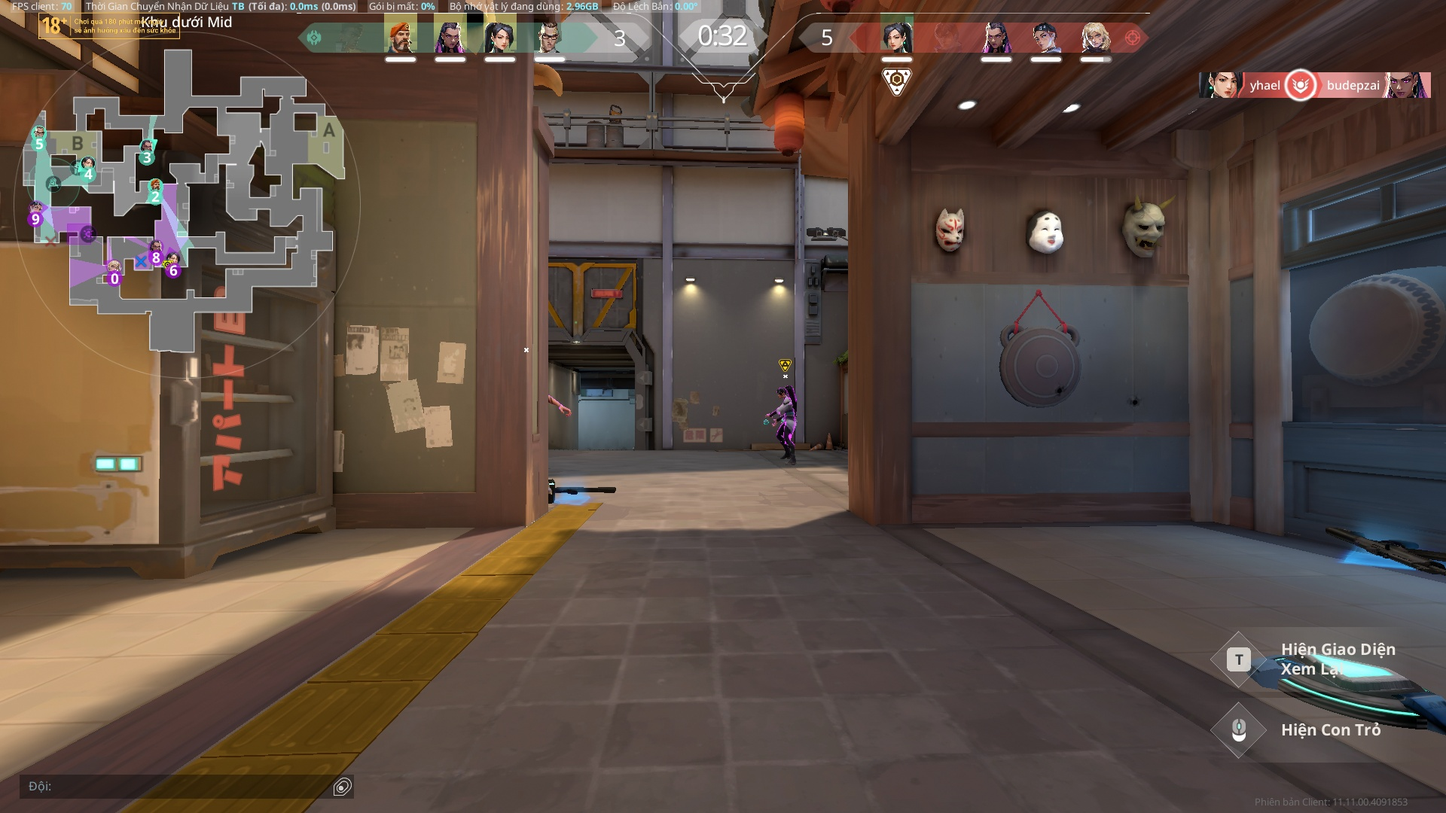body: (782, 397, 796, 422)
head: (776, 387, 787, 398)
